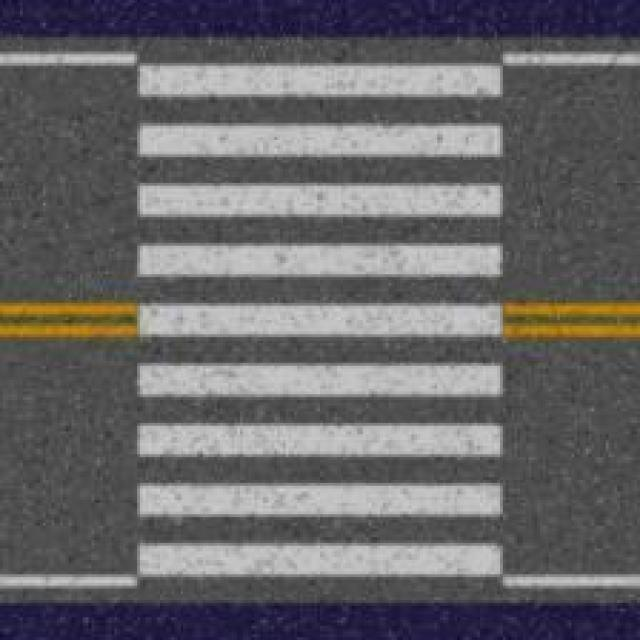crosswalk: (133, 56, 503, 584)
